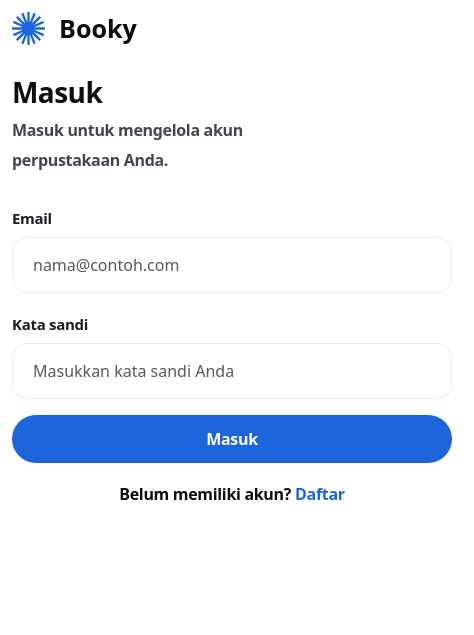
Test: auth forms › renders localized login validation feedback accessibly
Click the button "Masuk": (232, 439) [12,415,452,463]
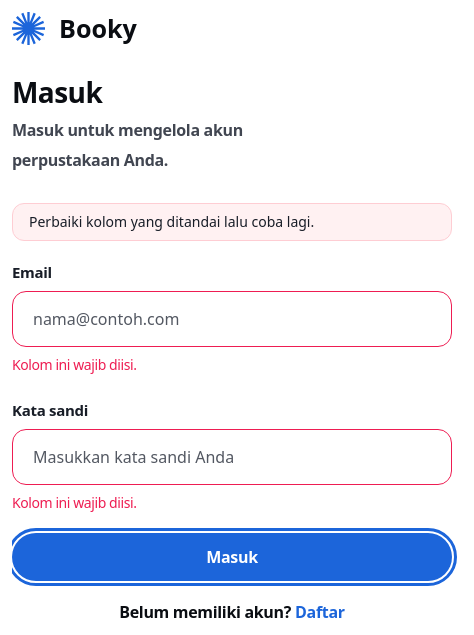
Expected: the text "Kolom ini wajib diisi." is shown 2 times, [12,351,136,379]; [12,489,136,517]
Expected: the message reads "Perbaiki kolom yang ditandai lalu coba lagi.", [29,212,314,231]
